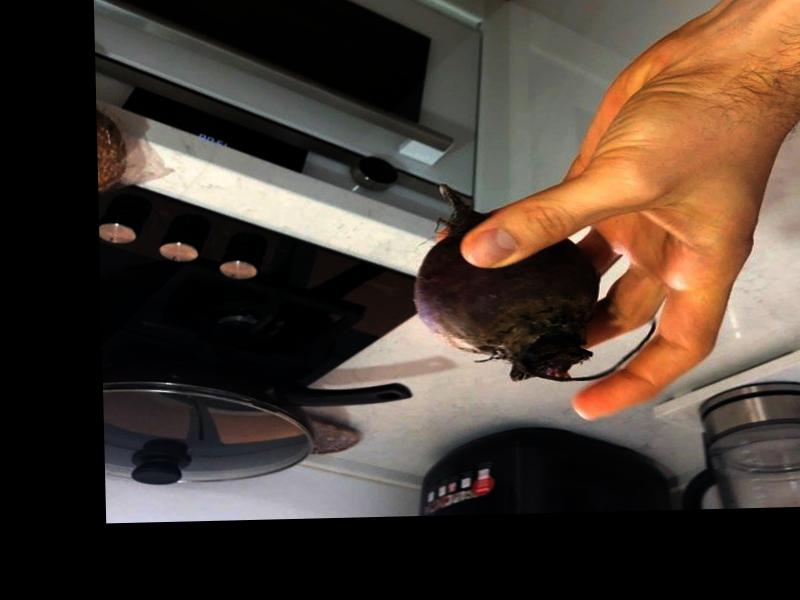Beet: (412, 179, 653, 384)
